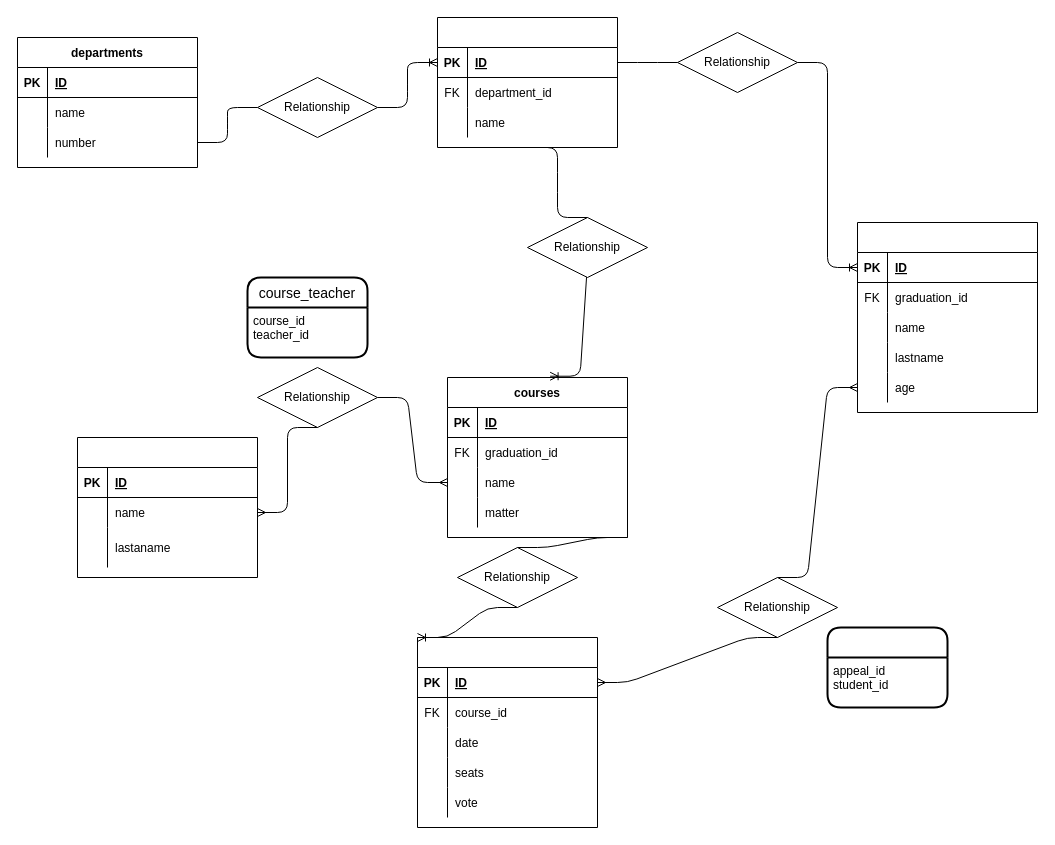
Image size: 1055x845. Some labels were removed from this diagram. Each missing label, with the box of its shape:
appeal_student: (826, 626, 948, 708)
appeals: (416, 636, 598, 828)
graduations: (436, 16, 618, 148)
students: (856, 222, 1038, 412)
teachers: (76, 436, 258, 578)
